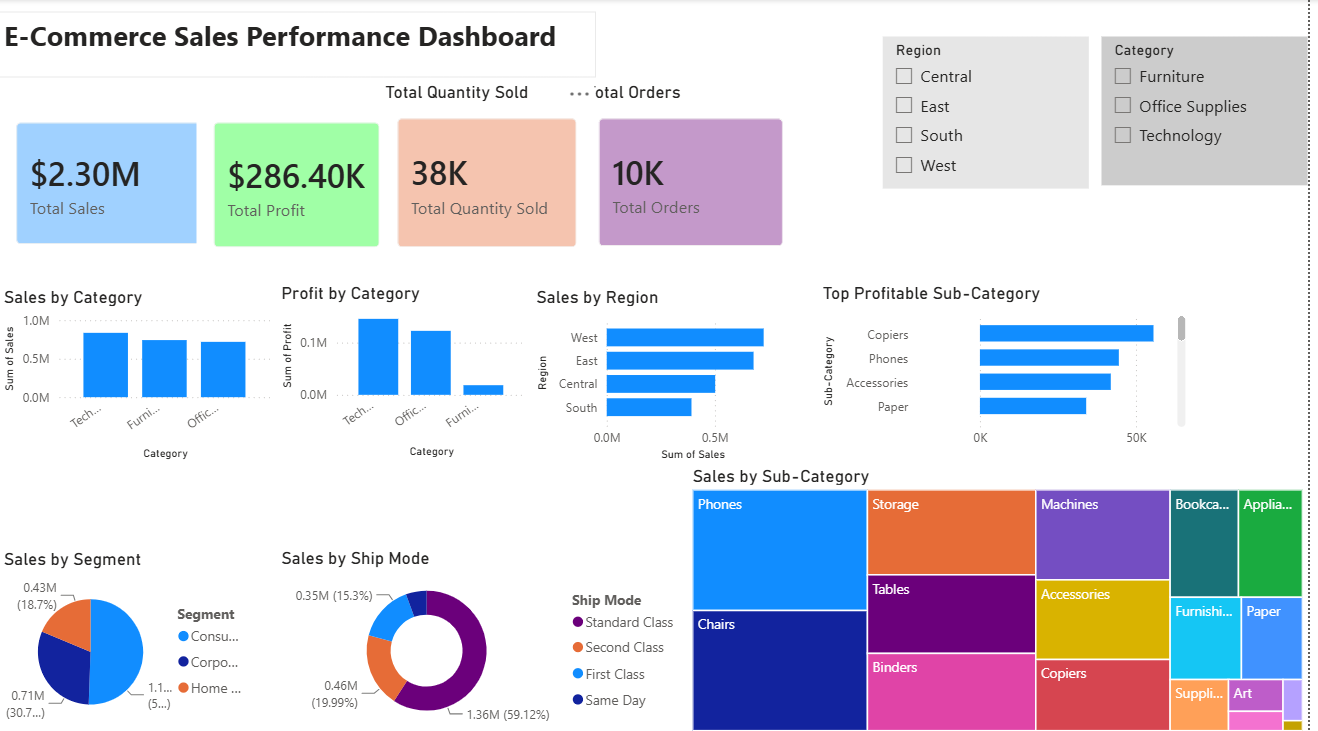

This screenshot's page, from the dashboard's own definition file:
{"tool":"powerbi","page":{"name":"Page 1","canvas":[1280,720],"ordinal":0},"visuals":[{"type":"cardVisual","fields":{"Data":["Sum(SampleSuperstore.Sales)"]},"box":[0,104.3,216.8,153.7],"z":0},{"type":"cardVisual","fields":{"Data":["Sum(SampleSuperstore.Profit)"]},"box":[193.5,104.3,196.2,156.4],"z":1000},{"type":"cardVisual","title":"Total Orders","fields":{"Data":["CountNonNull(SampleSuperstore.Sales)"]},"box":[569.5,81,214.1,178.4],"z":2000},{"type":"cardVisual","title":"Total Quantity Sold","fields":{"Data":["Sum(SampleSuperstore.Quantity)"]},"box":[373.2,81,209.9,179.8],"z":3000},{"type":"clusteredColumnChart","title":"Sales by Category","fields":{"Category":["SampleSuperstore.Category"],"Y":["Sum(SampleSuperstore.Sales)"]},"box":[0,281.3,271.7,174.3],"z":4000},{"type":"clusteredColumnChart","title":"Profit by Category","fields":{"Category":["SampleSuperstore.Category"],"Y":["Sum(SampleSuperstore.Profit)"]},"box":[271.7,277.2,249.7,175.6],"z":5000},{"type":"barChart","title":" Sales by Region","fields":{"Category":["SampleSuperstore.Region"],"Y":["Sum(SampleSuperstore.Sales)"]},"box":[521.4,281.3,262.1,175.6],"z":6000},{"type":"pieChart","title":"Sales by Segment","fields":{"Category":["SampleSuperstore.Segment"],"Y":["Sum(SampleSuperstore.Sales)"]},"box":[0,537.9,252.5,182.5],"z":7000},{"type":"slicer","fields":{"Values":["SampleSuperstore.Region"]},"box":[864.5,36.7,201.8,149.2],"z":8000},{"type":"slicer","fields":{"Values":["SampleSuperstore.Category"]},"box":[1078.5,36.7,201.8,145.5],"z":9000},{"type":"donutChart","title":" Sales by Ship Mode","fields":{"Category":["SampleSuperstore.Ship Mode"],"Y":["Sum(SampleSuperstore.Sales)"]},"box":[271.7,536.5,402.1,182.5],"z":10000},{"type":"barChart","title":"Top Profitable Sub-Category","fields":{"Category":["SampleSuperstore.Sub-Category"],"Y":["Sum(SampleSuperstore.Profit)"]},"box":[801.4,277.2,365,170.2],"z":11000},{"type":"treemap","title":" Sales by Sub-Category","fields":{"Values":["Sum(SampleSuperstore.Sales)"],"Group":["SampleSuperstore.Sub-Category"]},"box":[673.8,455.6,606.5,264.8],"z":12000},{"type":"textbox","box":[0,12.3,583.2,64.5],"z":12001}]}

Visuals, with their boxes in screenshot pixels (x1, y1, x2, y2), scaled from the page's 1280x720 canvas onto the 1318x731 screenshot:
cardVisual - Sum(SampleSuperstore.Sales): 0, 106, 223, 262
cardVisual - Sum(SampleSuperstore.Profit): 199, 106, 401, 265
"Total Orders" cardVisual: 586, 82, 807, 263
"Total Quantity Sold" cardVisual: 384, 82, 600, 265
"Sales by Category" clusteredColumnChart: 0, 286, 280, 463
"Profit by Category" clusteredColumnChart: 280, 281, 537, 460
" Sales by Region" barChart: 537, 286, 807, 464
"Sales by Segment" pieChart: 0, 546, 260, 730
slicer - SampleSuperstore.Region: 890, 37, 1098, 189
slicer - SampleSuperstore.Category: 1111, 37, 1317, 185
" Sales by Ship Mode" donutChart: 280, 545, 694, 730
"Top Profitable Sub-Category" barChart: 825, 281, 1201, 454
" Sales by Sub-Category" treemap: 694, 463, 1317, 730
textbox: 0, 12, 601, 78
